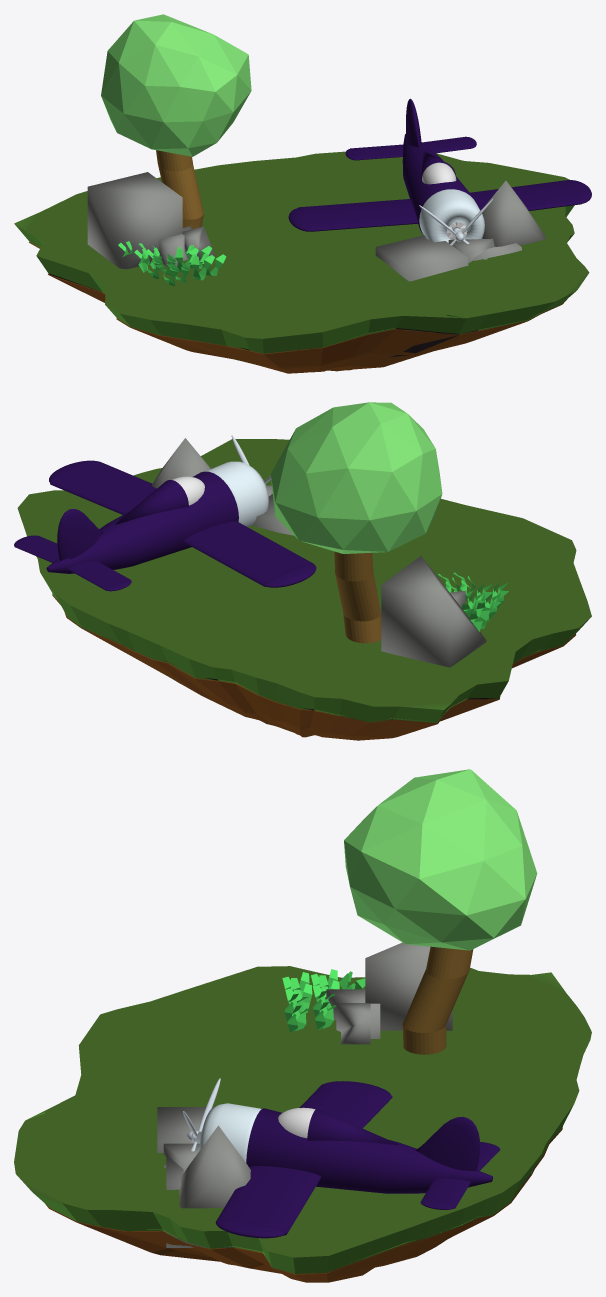
File: island.glb
3 views of the same model, one above another, from view 1: azimuth 30°, elevation 25°; view 2: azimuth 150°, elevation 25°; view 3: azimuth 270°, elevation 25° (orthographic). The views are drawn at different scales.
Parts seen in each view (by area): view 1: Vert.001, Icosphere, Cylinder.006, Vert, rock.004, rock.005, rock.003, Cylinder.007, Cylinder, rock.007, Sphere.005, rock.002 (+1 smaller); view 2: Vert.001, Icosphere, Cylinder.006, rock.004, Vert, Cylinder, Cylinder.007, rock.003, rock.005, Sphere.005; view 3: Vert.001, Icosphere, Cylinder.006, Vert, Cylinder, rock.004, rock.003, Cylinder.007, rock.005, rock.008, rock.007, Sphere.005 (+1 smaller).
Boxes of the visible parts, x1,y1,x2,y2 form: Vert.001: (14,151,589,353); Icosphere: (101,14,251,156); Cylinder.006: (288,98,591,234); Vert: (29,242,566,373); rock.004: (87,172,182,269); rock.005: (375,235,468,331); rock.003: (482,180,546,246); Cylinder.007: (419,189,484,242); Cylinder: (156,150,203,229); rock.007: (159,226,191,267); Sphere.005: (422,162,456,184); rock.002: (448,238,494,262); Vert.001: (17,439,591,722); Icosphere: (270,402,442,553); Cylinder.006: (14,460,316,591); rock.004: (381,556,486,667); Vert: (52,594,575,740); Cylinder: (334,551,381,643); Cylinder.007: (205,461,268,527); rock.003: (152,438,210,488); rock.005: (252,494,293,535); Sphere.005: (172,476,204,505); Vert.001: (14,966,591,1273); Icosphere: (344,769,537,950); Cylinder.006: (215,1081,500,1238); Vert: (45,1126,562,1282); Cylinder: (402,946,473,1054); rock.004: (365,942,452,1030); rock.003: (179,1125,250,1208); Cylinder.007: (199,1103,261,1162); rock.005: (157,1107,214,1152); rock.008: (336,1003,370,1044); rock.007: (326,989,380,1038); Sphere.005: (278,1107,315,1138).
Bounding box in the file's own units: 8.21 × 5.55 × 6.8.
50 materials, 2 textured.
